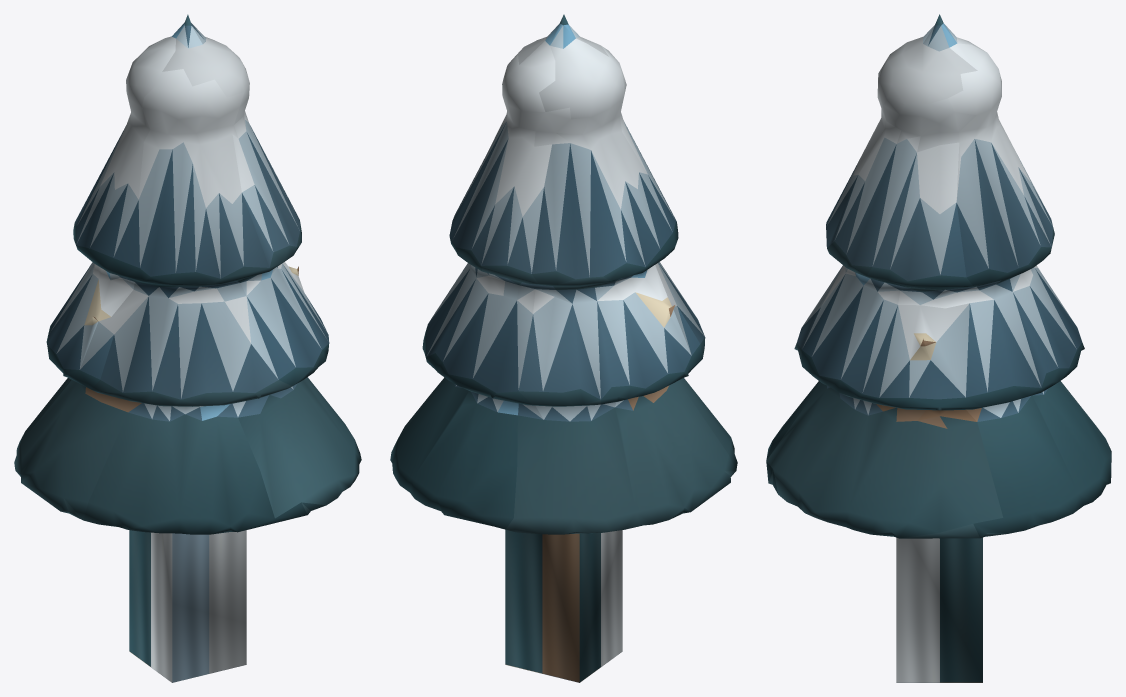
Rendered from tree_pine_a.glb.
The picture shows the model from 3 angles, left to right: view 1: azimuth 30°, elevation 25°; view 2: azimuth 150°, elevation 25°; view 3: azimuth 270°, elevation 25°; orthographic projection.
Parts seen in each view (by area): view 1: lod0, col; view 2: lod0, col; view 3: lod0, col.
Part boxes in pixels (box(x1,y1,x2,y2)): lod0: box(14, 14, 361, 534); col: box(129, 530, 246, 682); lod0: box(390, 14, 737, 534); col: box(505, 529, 622, 682); lod0: box(766, 14, 1111, 538); col: box(896, 537, 982, 682).
Size of what is drawn, in the model's own units: 2.39 by 4.97 by 2.39.
2 materials, 2 textured.
